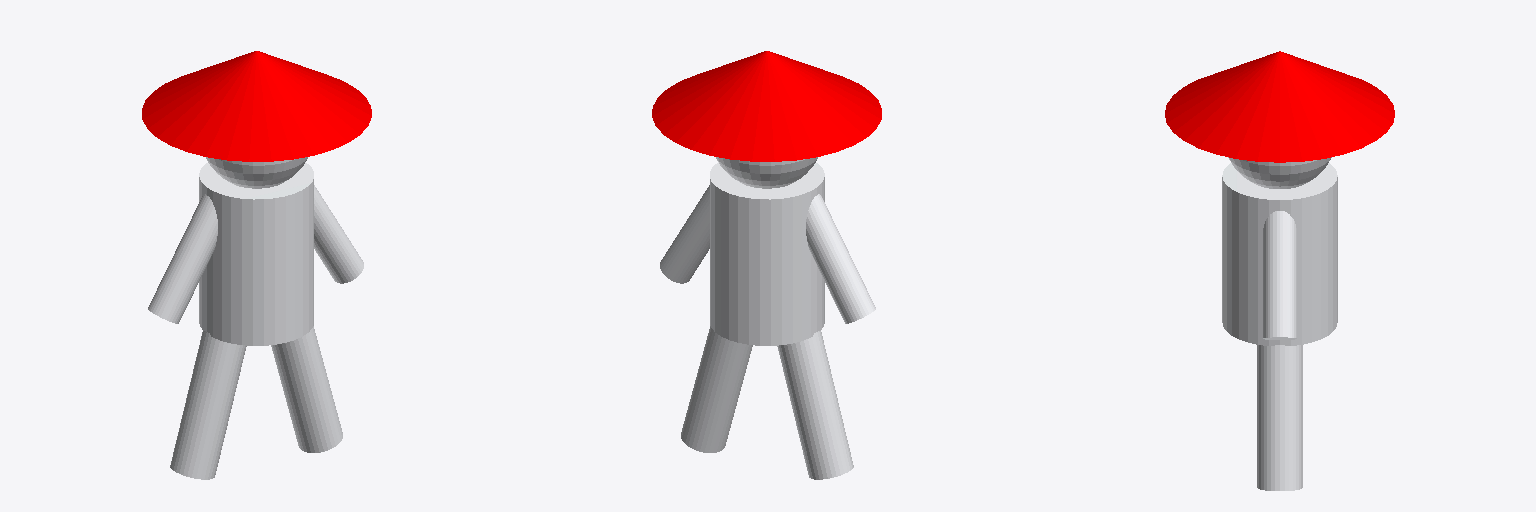
The picture shows the model from 3 angles: view 1: azimuth 30°, elevation 25°; view 2: azimuth 150°, elevation 25°; view 3: azimuth 270°, elevation 25°; orthographic projection.
Parts seen in each view (by area): view 1: Cone, Cylinder, Cylinder.001, Cylinder.002, Cylinder.003, Cylinder.004, Sphere; view 2: Cone, Cylinder, Cylinder.001, Cylinder.002, Cylinder.003, Cylinder.004, Sphere; view 3: Cone, Cylinder, Cylinder.002, Cylinder.004, Sphere.
Part boxes in pixels (left/top/right/bottom): Cone: left=142, top=51, right=371, bottom=161; Cylinder: left=199, top=162, right=313, bottom=345; Cylinder.001: left=170, top=331, right=246, bottom=479; Cylinder.002: left=271, top=326, right=342, bottom=452; Cylinder.003: left=148, top=194, right=217, bottom=323; Cylinder.004: left=314, top=185, right=363, bottom=283; Sphere: left=206, top=157, right=307, bottom=188; Cone: left=652, top=51, right=881, bottom=161; Cylinder: left=710, top=162, right=824, bottom=345; Cylinder.001: left=777, top=331, right=853, bottom=479; Cylinder.002: left=681, top=326, right=752, bottom=452; Cylinder.003: left=806, top=194, right=875, bottom=323; Cylinder.004: left=660, top=185, right=709, bottom=283; Sphere: left=716, top=157, right=817, bottom=188; Cone: left=1165, top=51, right=1394, bottom=162; Cylinder: left=1222, top=163, right=1337, bottom=345; Cylinder.002: left=1257, top=345, right=1302, bottom=490; Cylinder.004: left=1263, top=211, right=1296, bottom=339; Sphere: left=1228, top=157, right=1331, bottom=188.
Size of the model in its own units: 1.27 by 2.36 by 1.2.
2 materials, 2 textured.